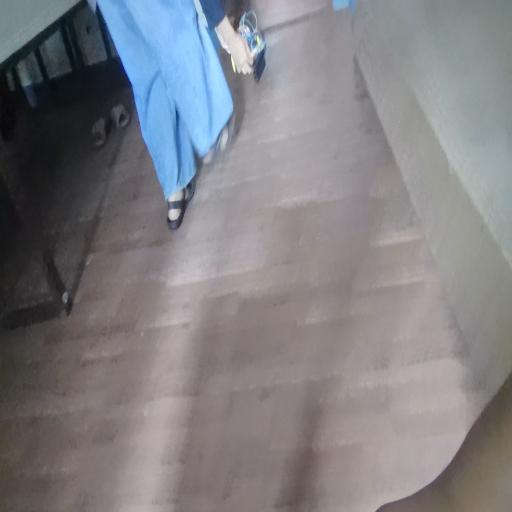car: (246, 20, 271, 66)
